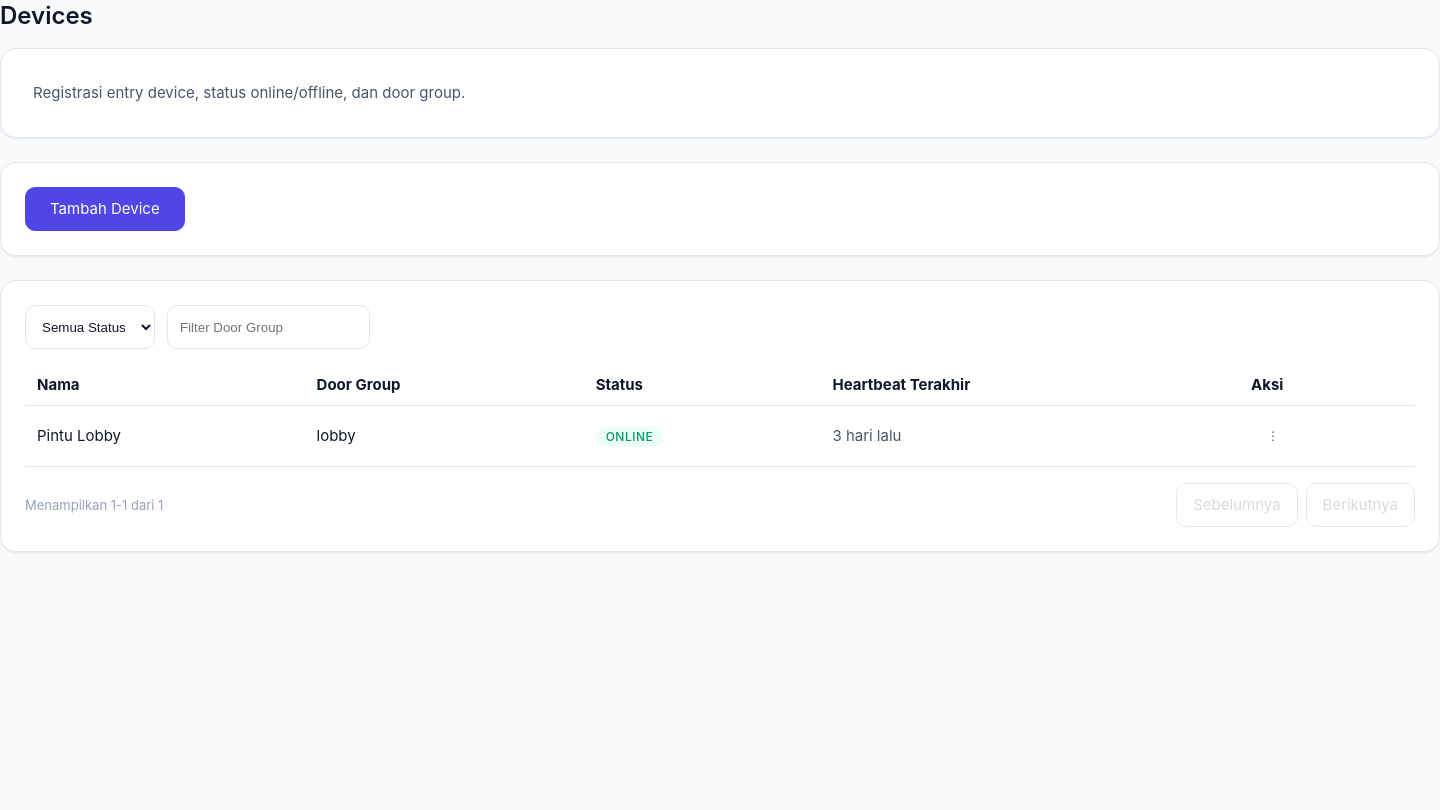
Scenario: DevicesPage — device activation dialog › sends a heartbeat with the pasted credential and shows the result
Expected: the text "Pintu Lobby" is shown, [25,406,304,466]
Step 1. Click the button named "Aksi lainnya" → (1273, 436), box [1251,414,1295,458]
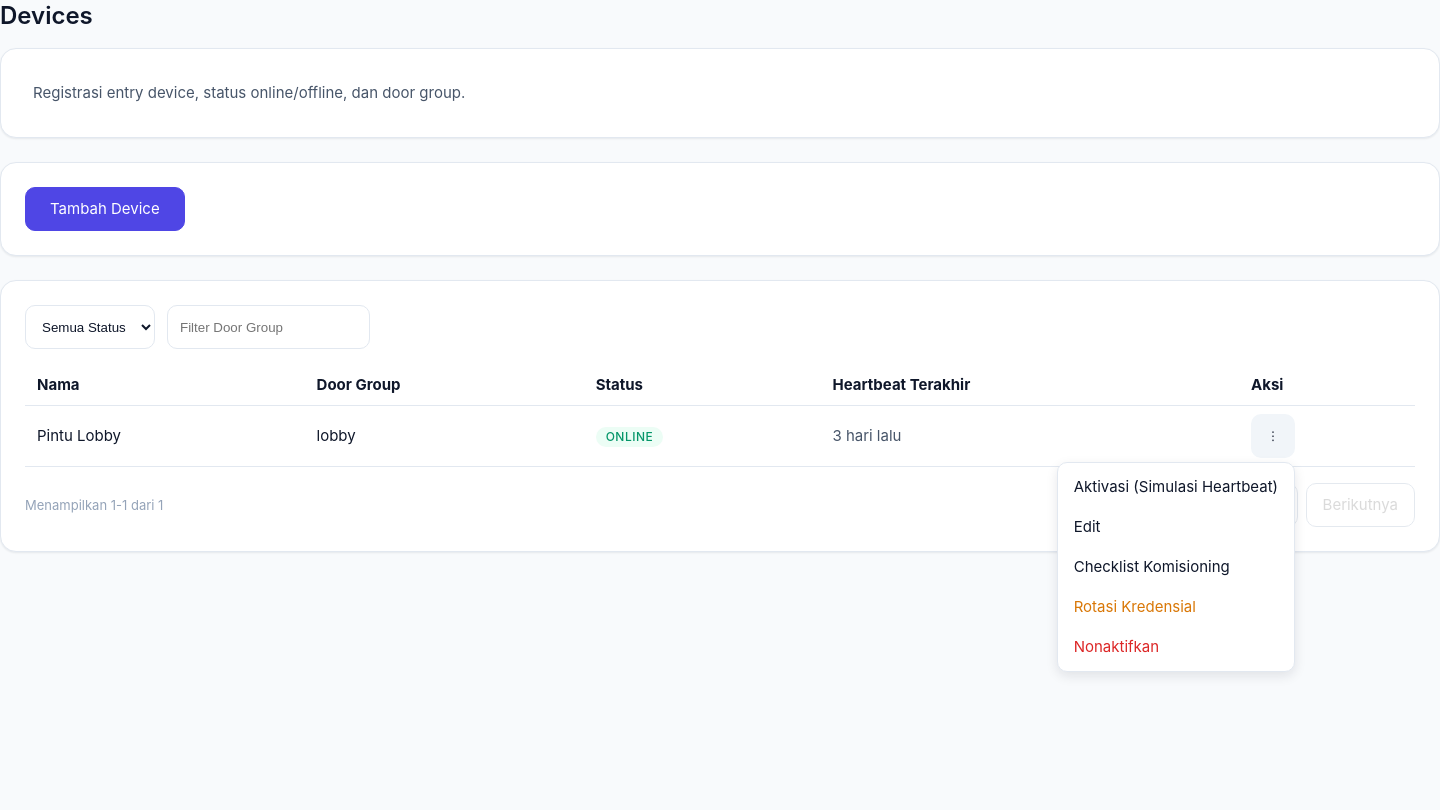
Step 2. Click the menu item "Aktivasi (Simulasi Heartbeat)" → (1176, 487), box [1062,467,1290,507]
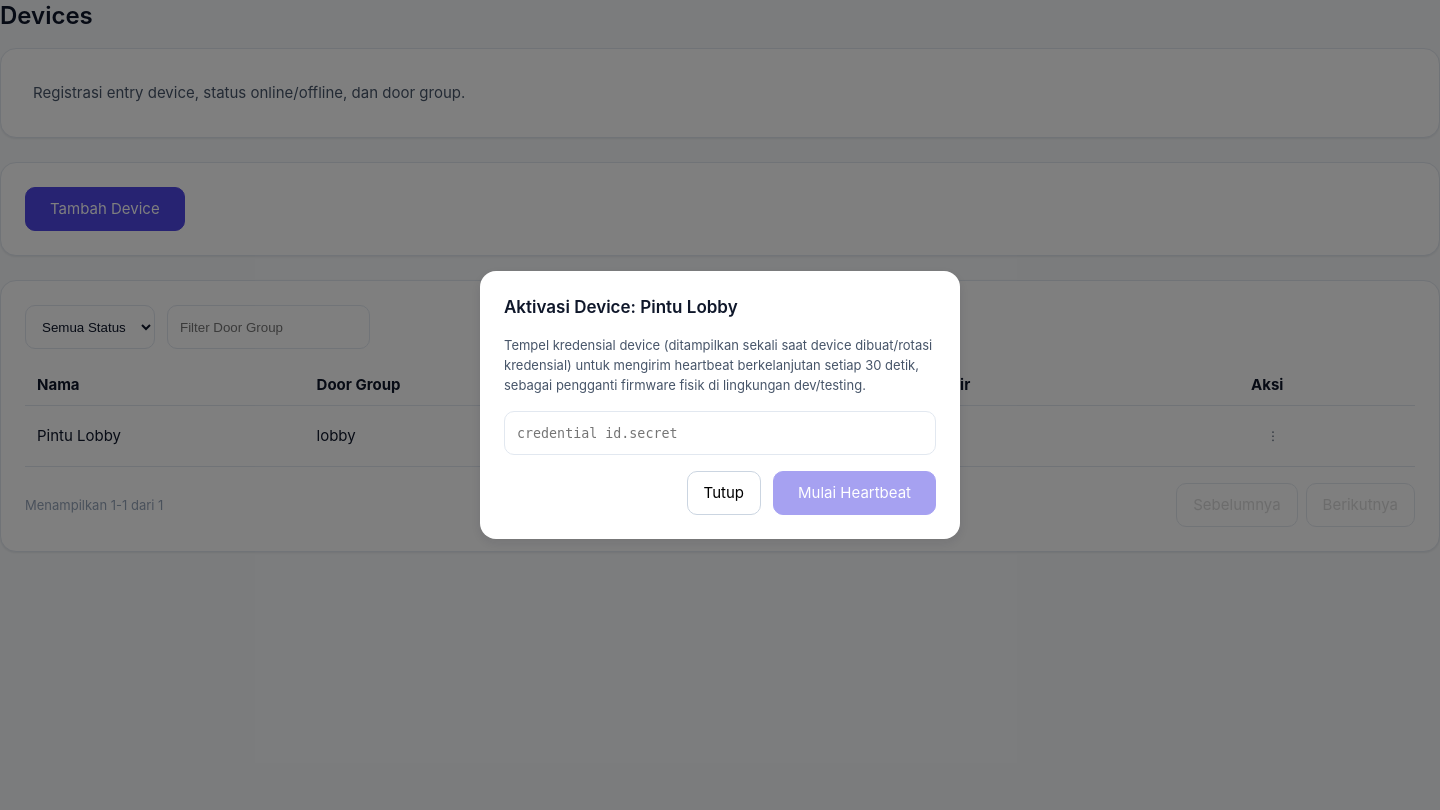
Now the dialog shows "Aktivasi Device: Pintu Lobby", box [480,271,960,539]
Step 3. Type "cred-1.secret-1" into the field with placeholder "credential_id.secret" → (720, 433), box [504,411,936,455]
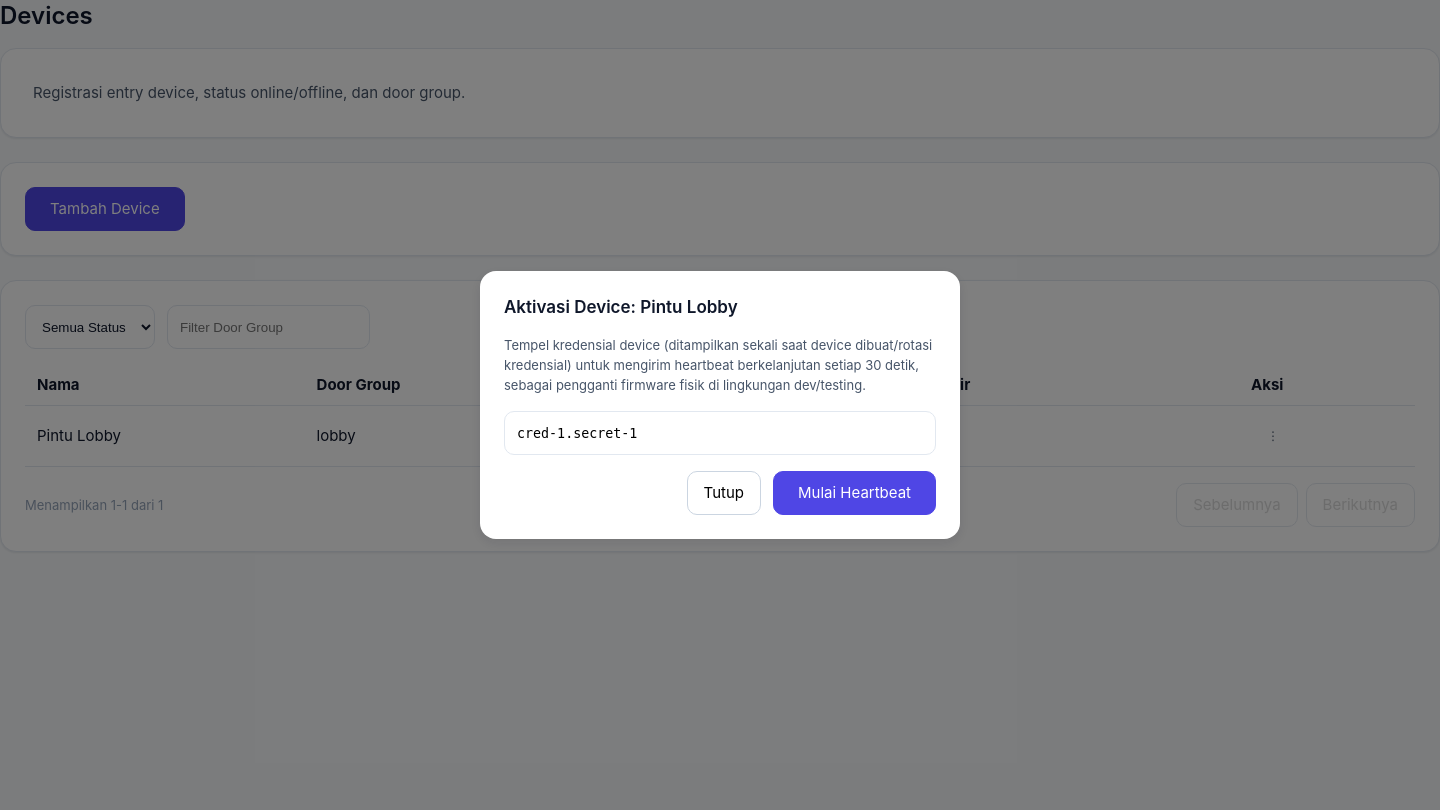
Step 4. Click the button "Mulai Heartbeat" → (854, 493), box [773,471,936,515]
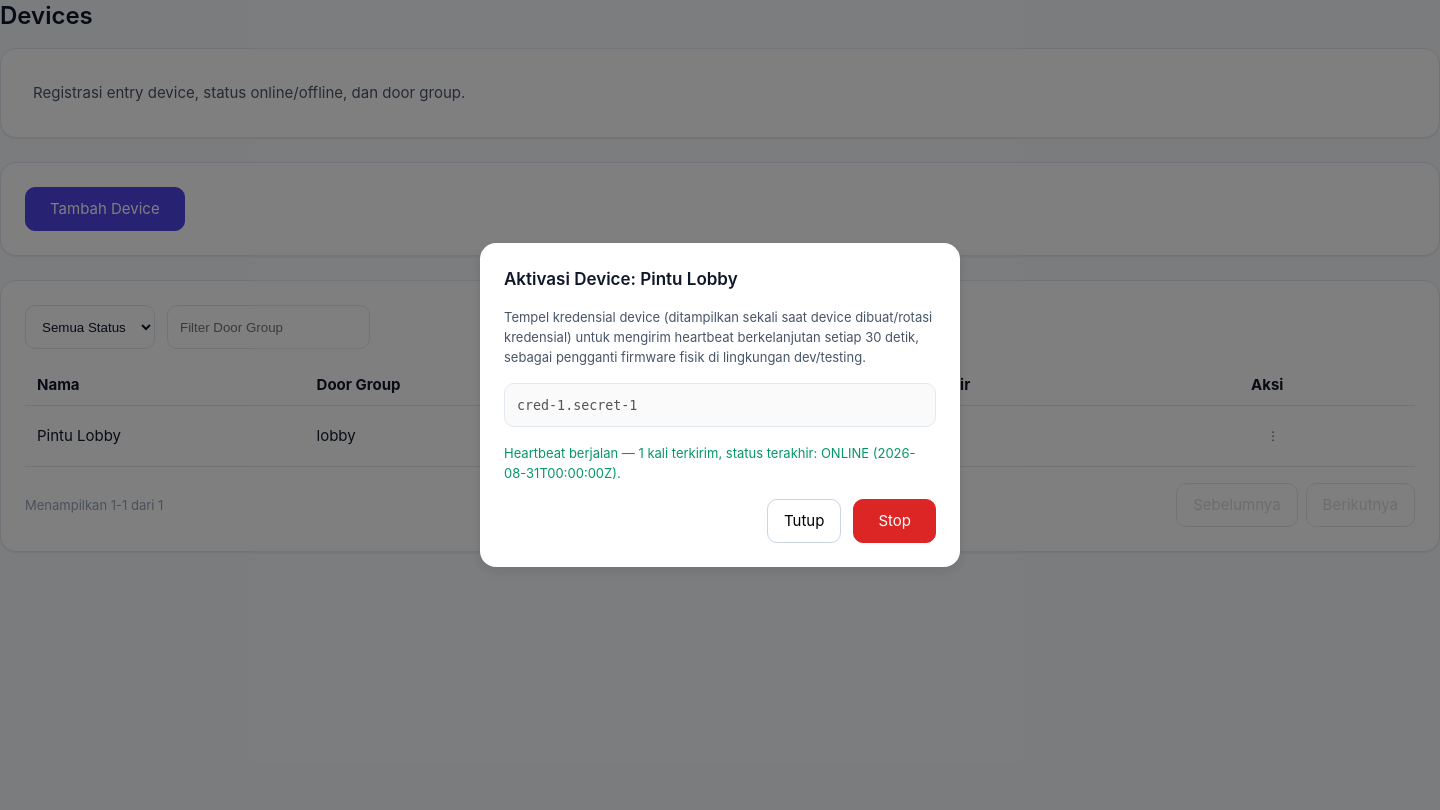
Now the text "Heartbeat berjalan" is shown, box [504,445,638,461]
Step 5. Click the button "Stop" → (895, 521), box [853,499,936,543]
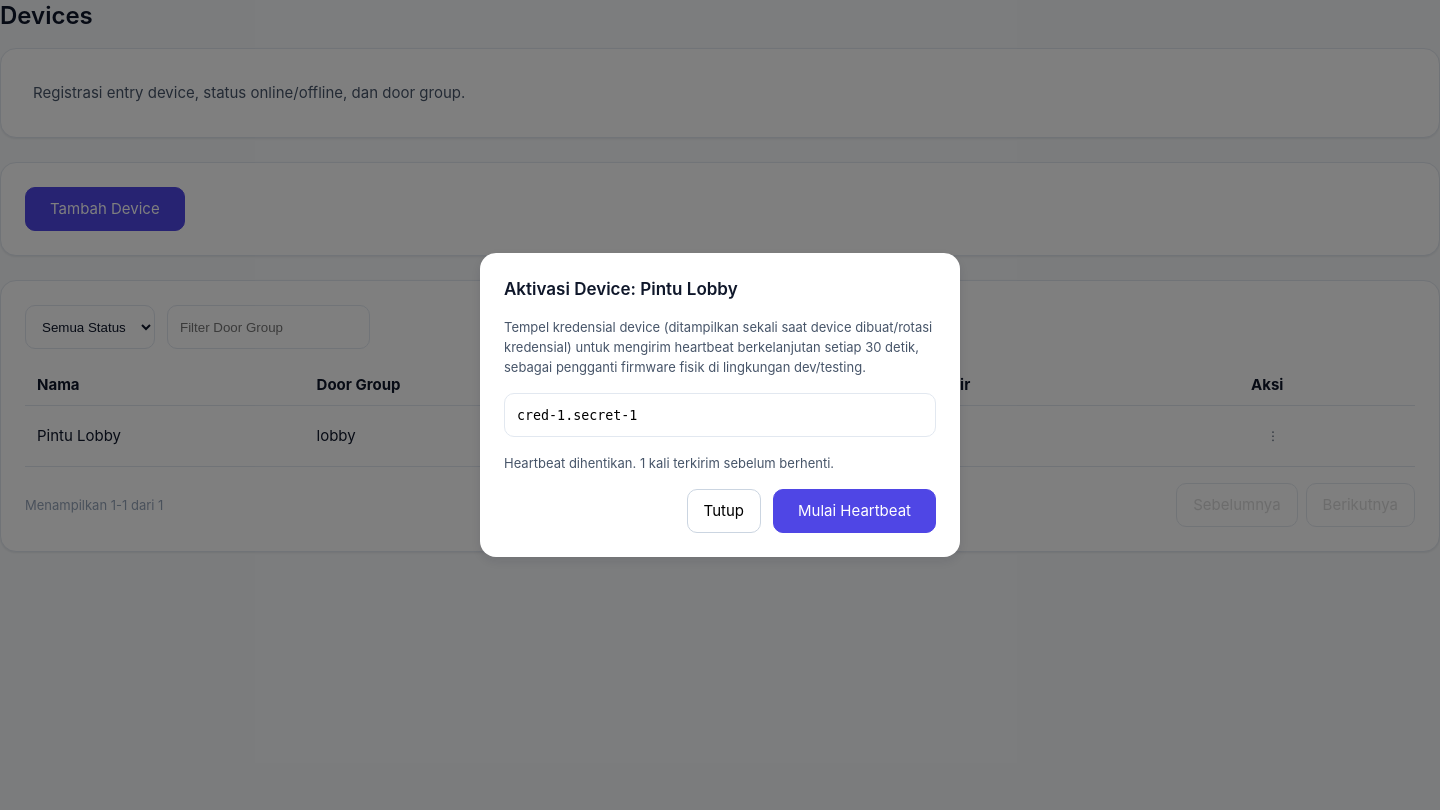
Now the text "Heartbeat dihentikan. 1 kali terkirim sebelum berhenti." is shown, box [504,455,834,471]
Step 6. Click the button "Tutup" → (724, 511), box [687,489,761,533]
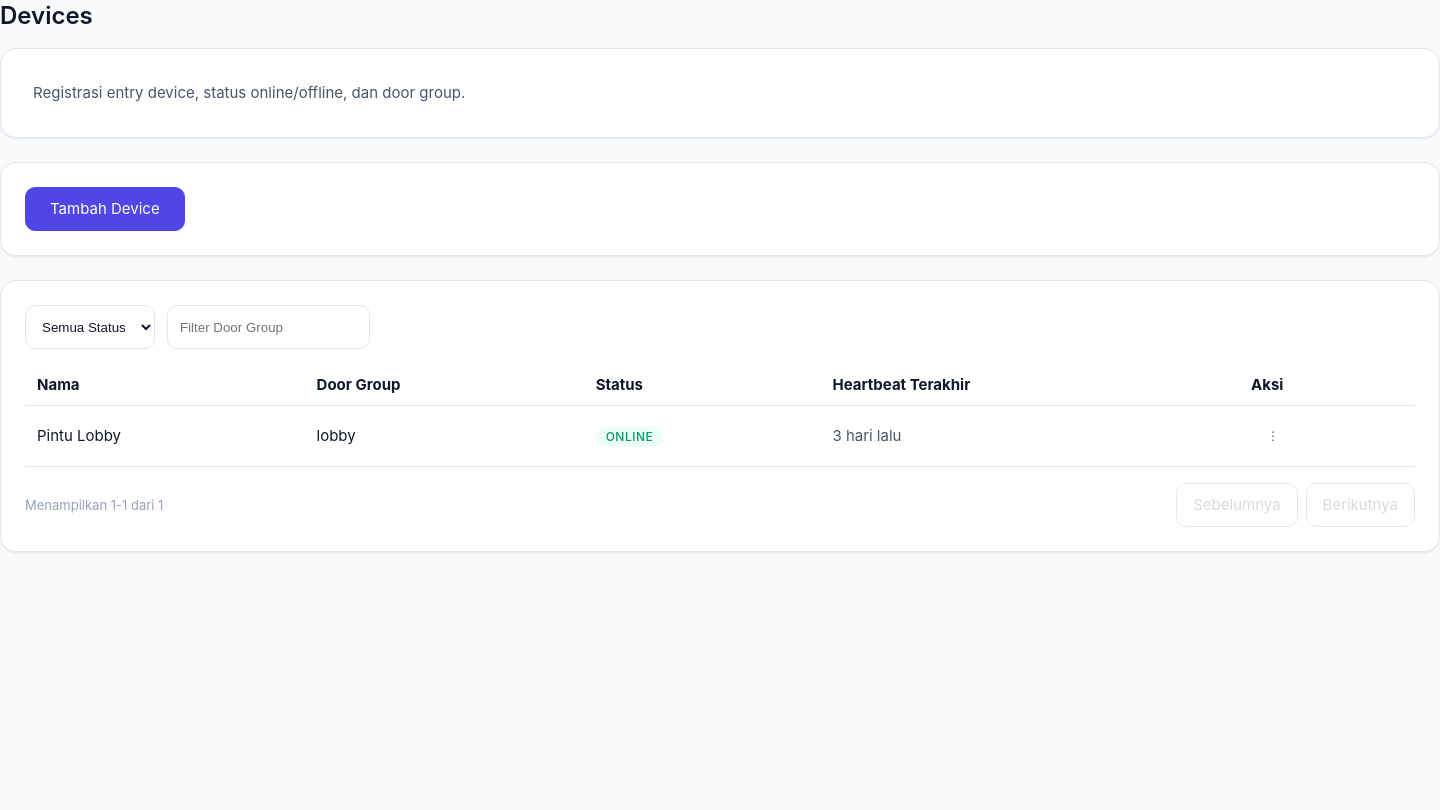
Now the dialog is gone
